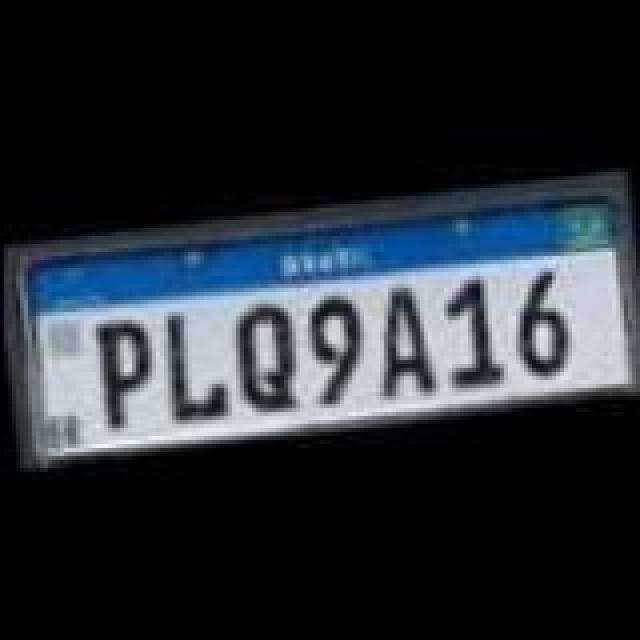1: (432, 268, 512, 392)
6: (504, 262, 584, 386)
9: (300, 292, 380, 412)
A: (362, 284, 446, 408)
L: (160, 306, 240, 426)
P: (92, 314, 164, 430)
Q: (228, 302, 308, 418)
